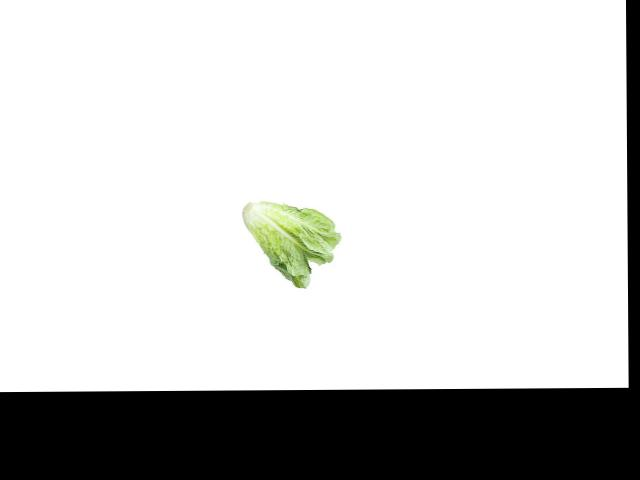lettuce: (245, 195, 340, 294)
